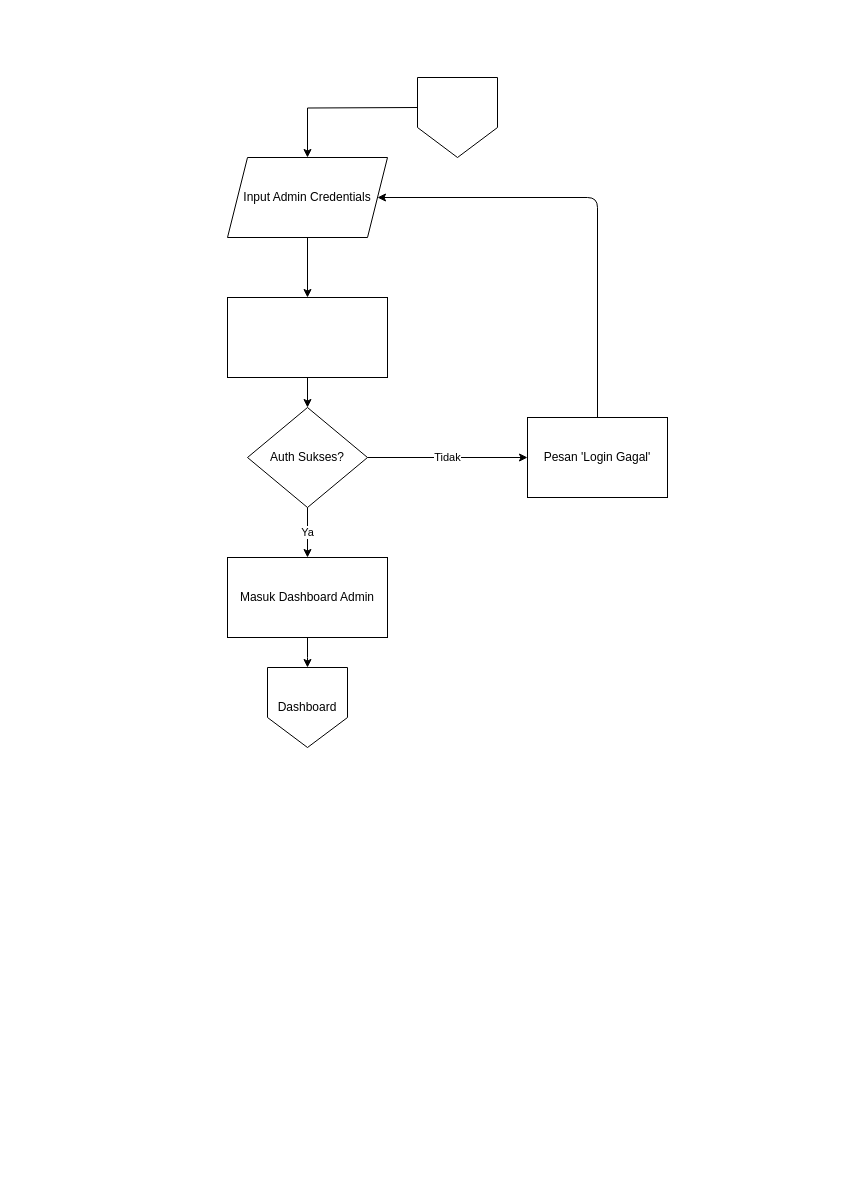
The diagram is 861 pixels wide and 1203 high, and some of its shapes have lost their labels. The shapes that lost their labels are listed below. From the top down, each one's box as (x1, y1, x2, y2) in pixels, then its label:
(416, 76, 498, 158): Mulai
(226, 296, 388, 378): Cek Session & DB
